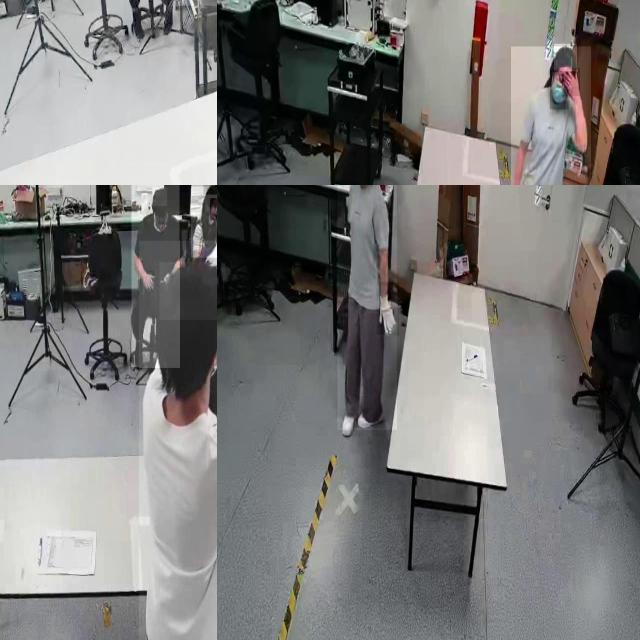face_mask: (550, 68, 568, 110)
face_nomask: (210, 198, 217, 221)
hand_glove: (376, 282, 399, 336)
hand_noglove: (562, 68, 580, 97), (140, 270, 154, 293)
head_nohelmet: (159, 262, 217, 320), (554, 44, 578, 71), (152, 187, 168, 207), (203, 185, 217, 195)
person: (139, 240, 217, 640), (337, 185, 397, 430), (510, 46, 591, 185), (132, 185, 180, 368), (123, 0, 176, 48), (191, 186, 217, 258)
shoes: (356, 397, 386, 435), (340, 401, 357, 442)
